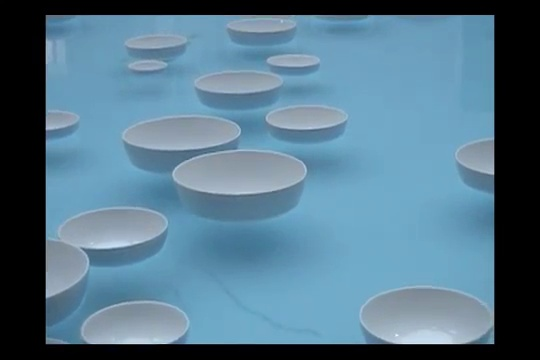bowl: (172, 150, 307, 219), (358, 285, 493, 343), (122, 116, 242, 171), (57, 207, 170, 265), (81, 300, 192, 344), (45, 238, 90, 325), (194, 71, 282, 107), (265, 105, 349, 142), (226, 18, 297, 47), (454, 138, 493, 190), (124, 34, 189, 59), (266, 54, 321, 76), (46, 109, 81, 138), (126, 60, 169, 74)
